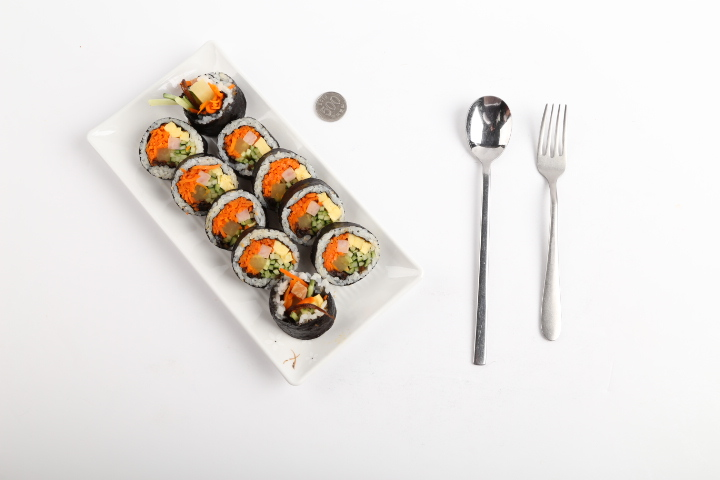dish: (86, 41, 420, 387)
ref_coin: (315, 91, 348, 122)
ref_fork: (536, 103, 567, 183)
ref_spoon: (466, 95, 512, 170)
김밥: (138, 71, 380, 339)
